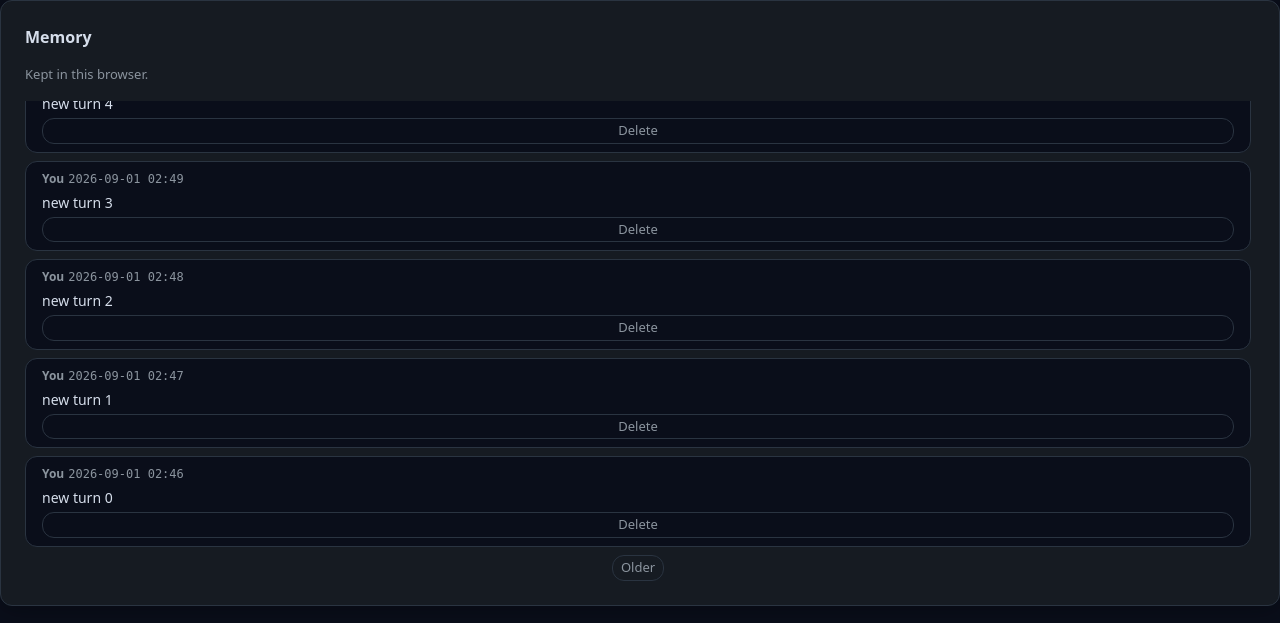
Test: MemoryPanel (P4-T05) › groups conversations by session, newest session first, and Older pages until a page comes back short
(page scrolled)
Expected: the text "new turn 0" is shown, x1=42 y1=488 x2=113 y2=507
Expected: the text "old turn 0" is not shown
Click the button "Older" at (638, 568), box x1=612 y1=555 x2=664 y2=580
(page scrolled)
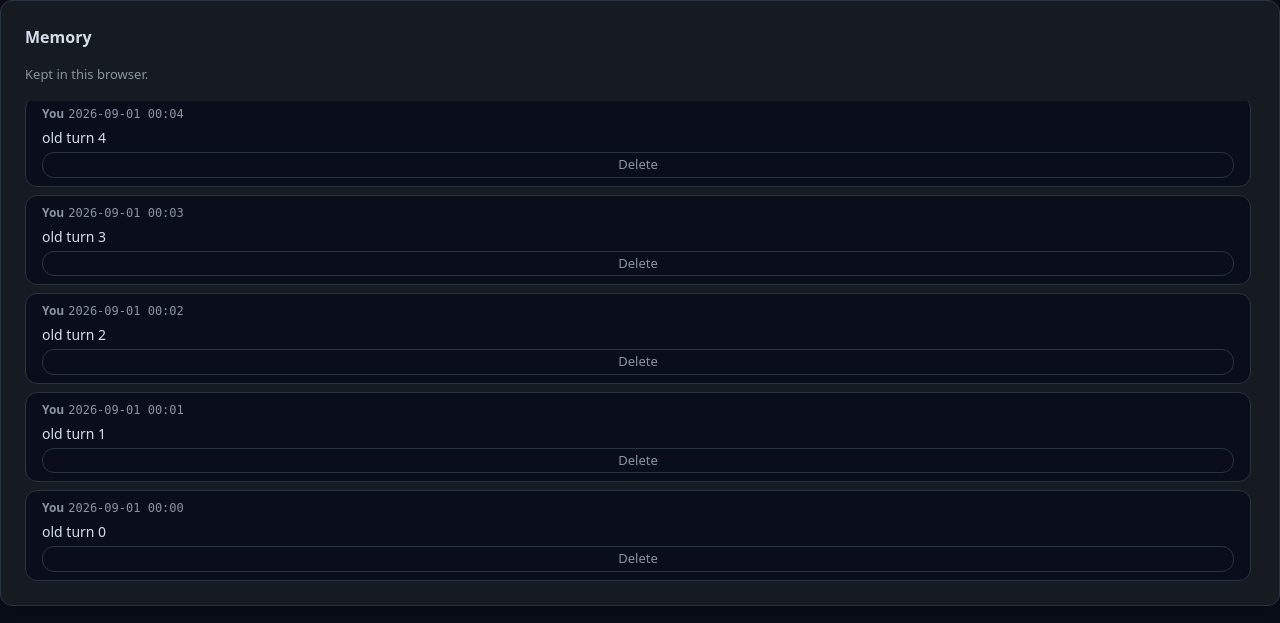
Now the text "old turn 0" is shown, box x1=42 y1=522 x2=106 y2=541
Now the button "Older" is gone
